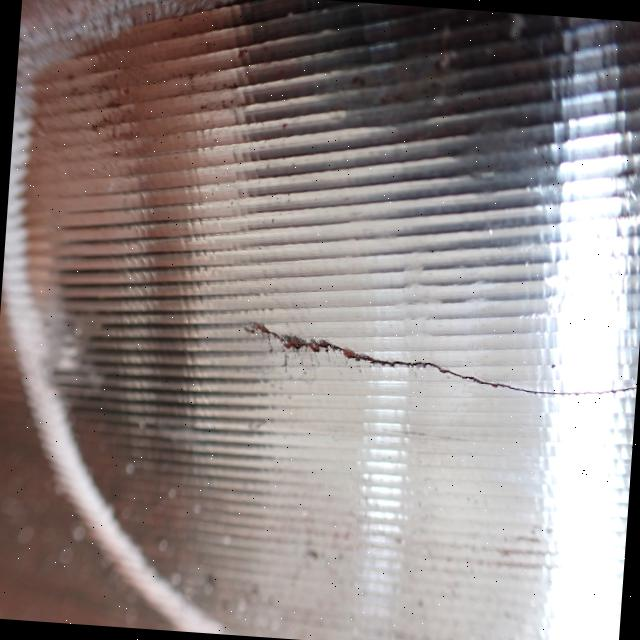Contact_Fatigue_Cracks: (245, 316, 640, 401)
